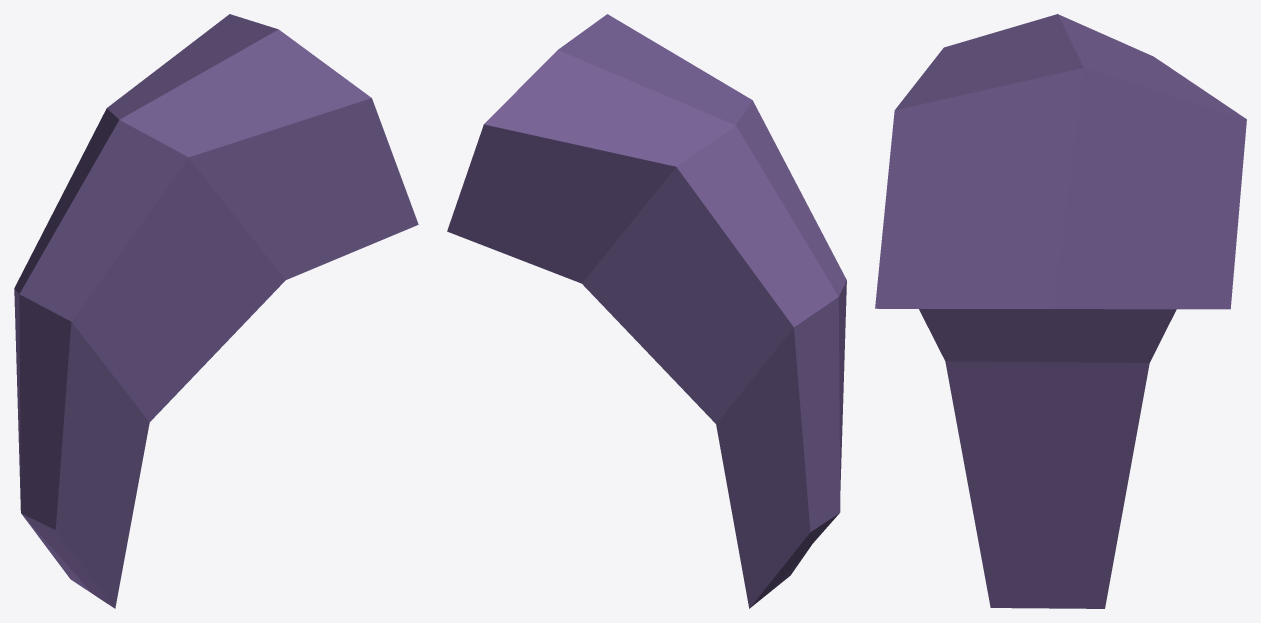
Rendered from beetle_corpse_leg_right.glb.
3 views of the same model, side by side, from view 1: azimuth 30°, elevation 25°; view 2: azimuth 150°, elevation 25°; view 3: azimuth 270°, elevation 25° (orthographic). The views are drawn at different scales.
Parts seen in each view (by area): view 1: BeetleCorpseLegRight; view 2: BeetleCorpseLegRight; view 3: BeetleCorpseLegRight.
Part boxes in pixels (bbox=[...]): BeetleCorpseLegRight: bbox=[14, 14, 418, 608]; BeetleCorpseLegRight: bbox=[447, 14, 846, 608]; BeetleCorpseLegRight: bbox=[875, 14, 1246, 608].
Bounding box in the file's own units: 0.2414 × 0.3524 × 0.1772.
1 material, 1 textured.
